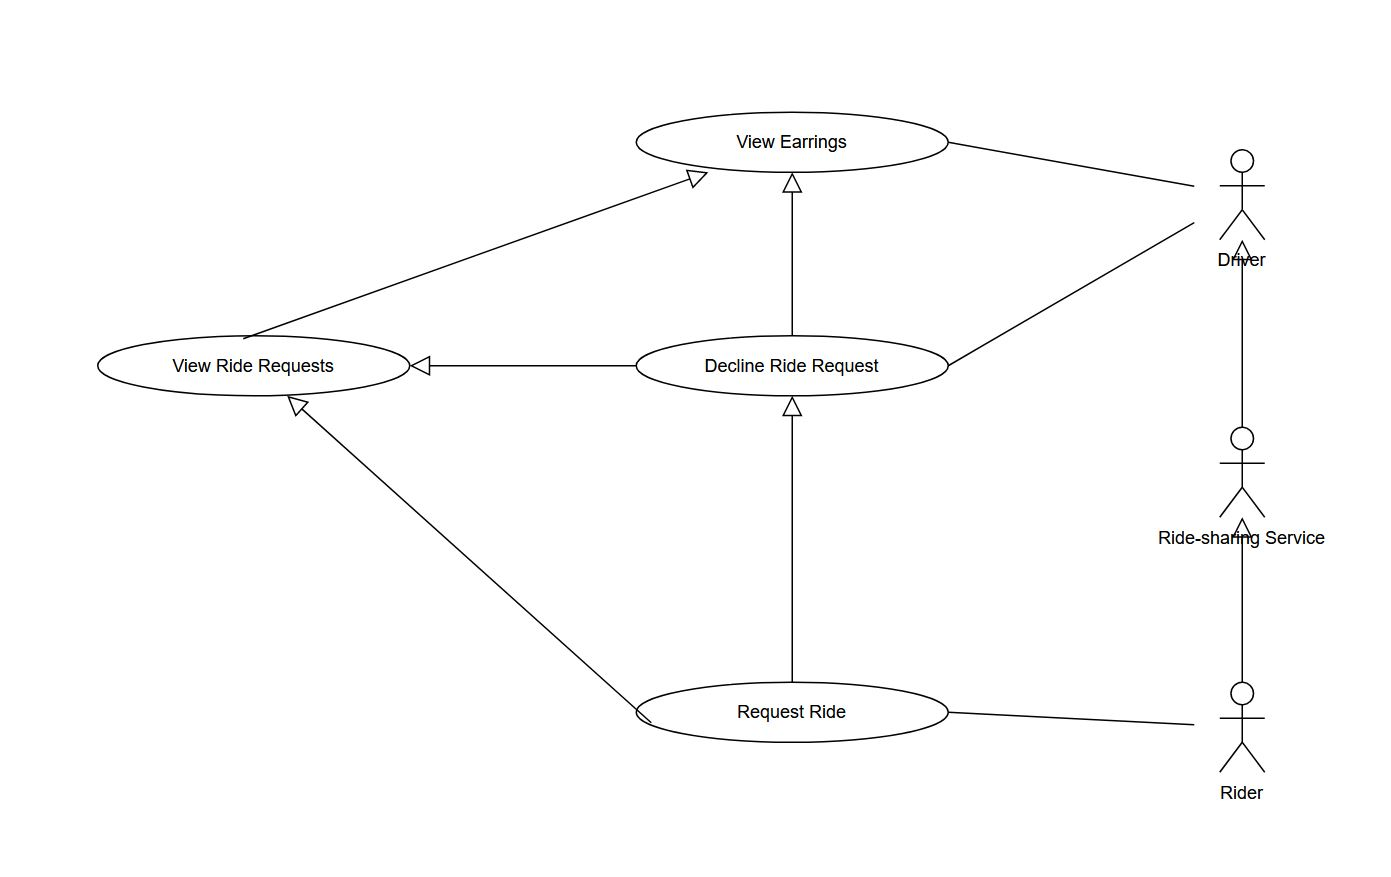actor: (1216, 147, 1267, 239), (1217, 681, 1269, 771), (1216, 426, 1267, 517)
association: (949, 219, 1196, 368), (948, 138, 1203, 188), (951, 702, 1197, 730)
generalization: (288, 394, 634, 706), (251, 168, 711, 329), (773, 173, 812, 332), (781, 398, 802, 679), (413, 350, 635, 374), (1230, 240, 1255, 423), (1229, 517, 1256, 679)
text: (703, 352, 884, 381), (168, 352, 347, 381), (1150, 524, 1329, 549), (730, 698, 844, 726), (732, 130, 848, 157), (1206, 772, 1268, 807), (1214, 248, 1269, 266)
use_case: (635, 680, 950, 747), (96, 333, 411, 399), (636, 333, 949, 397), (634, 110, 948, 172)
